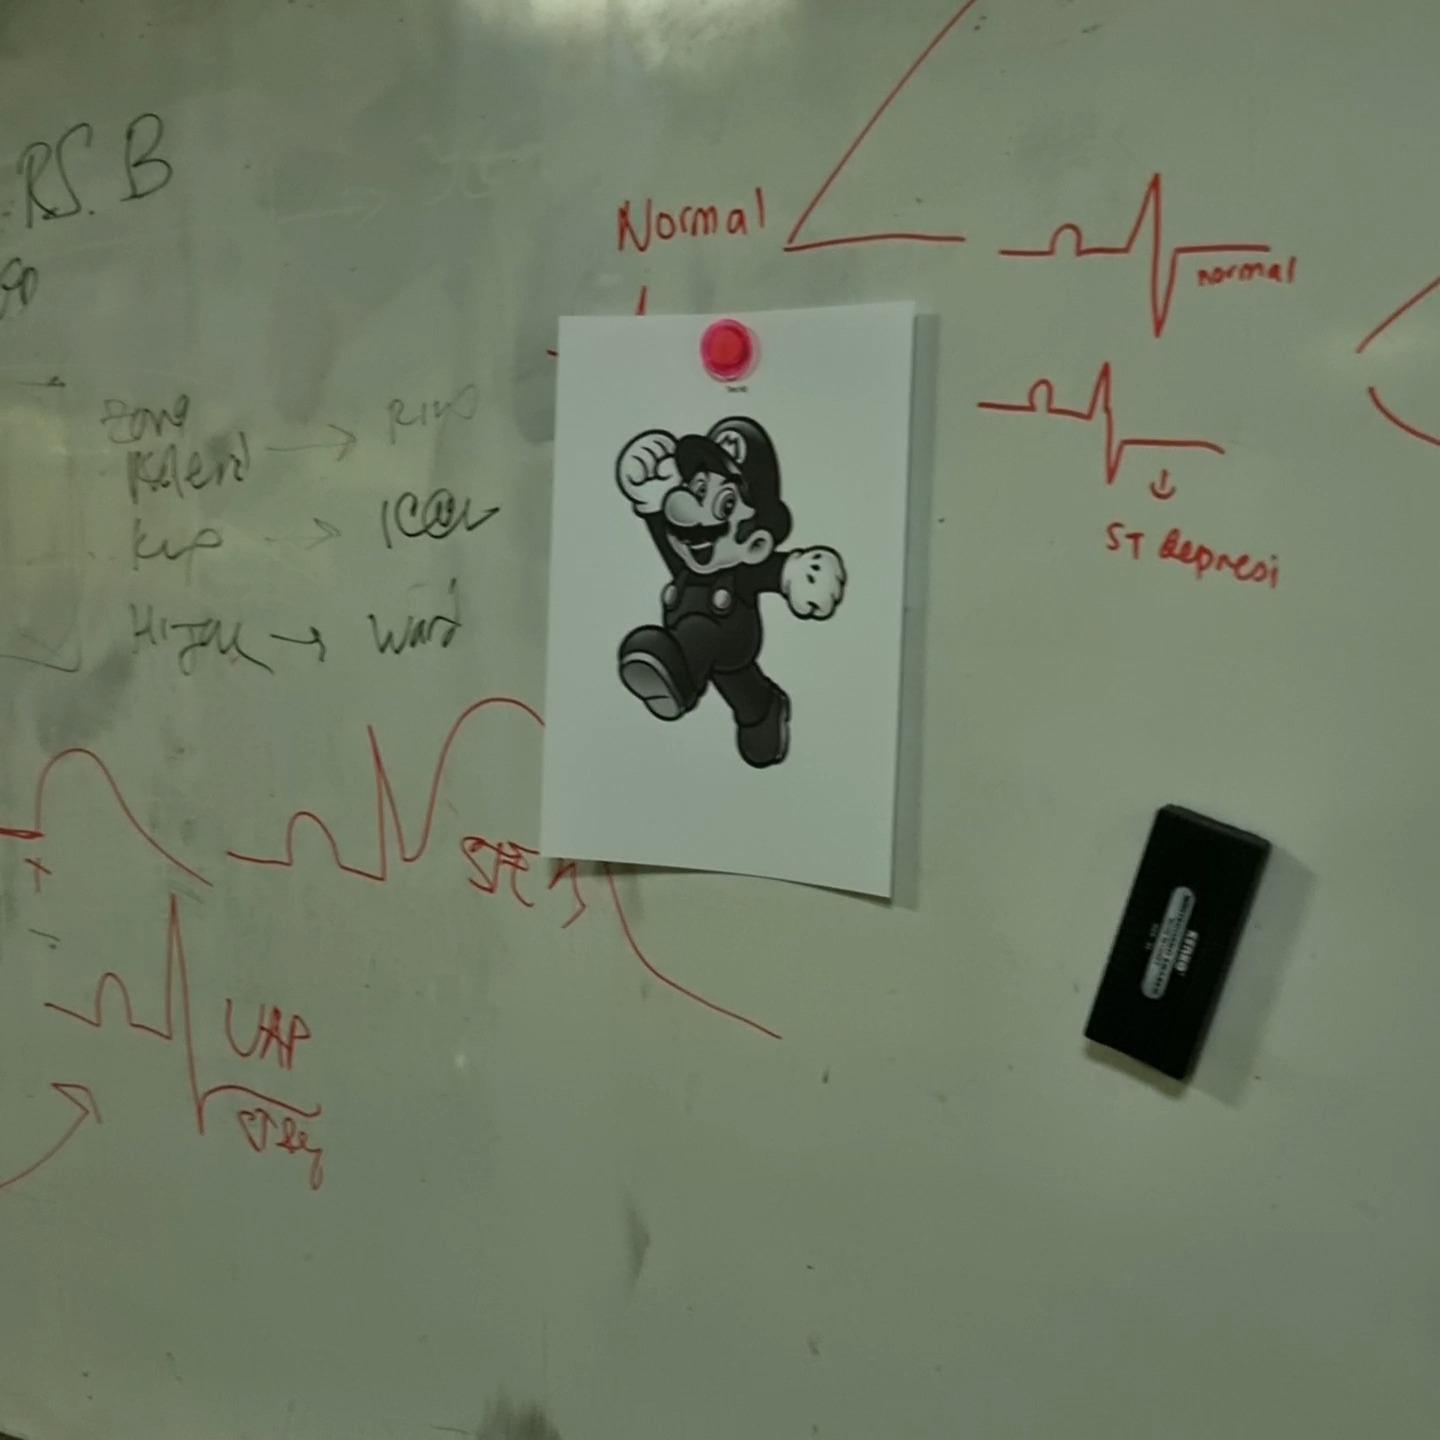mario: (607, 402, 855, 782)
